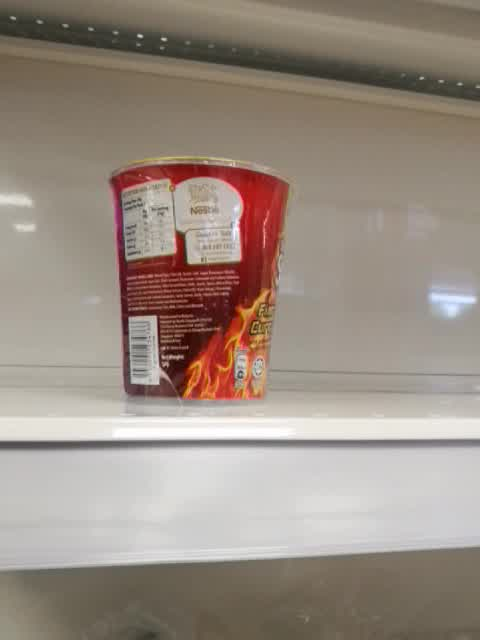maggi: (107, 156, 293, 409)
